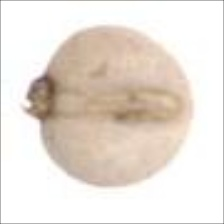L5: (53, 85, 186, 126), (18, 71, 62, 126), (180, 79, 197, 136)
L6: (21, 23, 198, 189)
